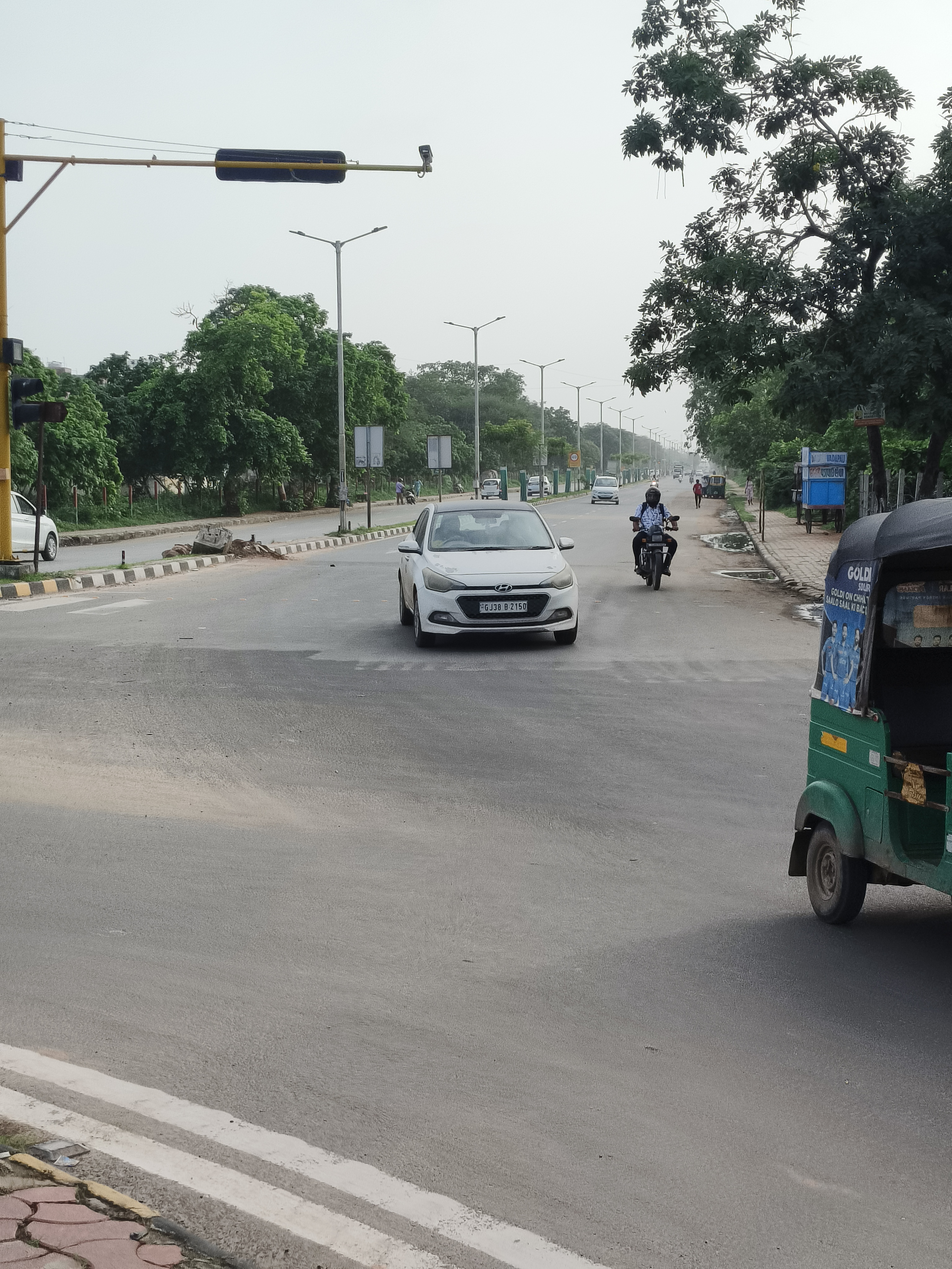BikeWithRider: (624, 479, 684, 593)
